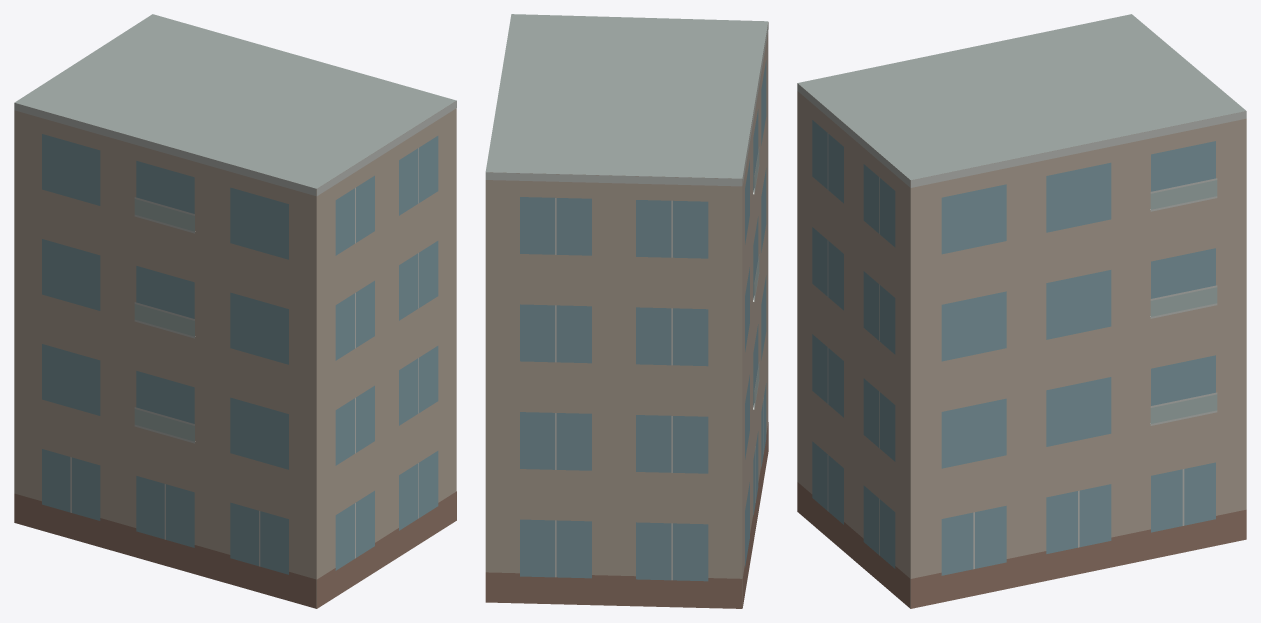
Rendered from survey-upis-32748743.glb.
3 views of the same model, side by side, from view 1: azimuth 30°, elevation 25°; view 2: azimuth 150°, elevation 25°; view 3: azimuth 270°, elevation 25° (orthographic). The views are drawn at different scales.
Parts seen in each view (by area): view 1: survey-upis-32748743.tmp; view 2: survey-upis-32748743.tmp; view 3: survey-upis-32748743.tmp.
Boxes of the visible parts, <box> form: survey-upis-32748743.tmp: <box>14,14,456,608</box>; survey-upis-32748743.tmp: <box>485,14,768,608</box>; survey-upis-32748743.tmp: <box>797,14,1246,608</box>.
Bounding box in the file's own units: 11.33 × 13.6 × 12.93.
